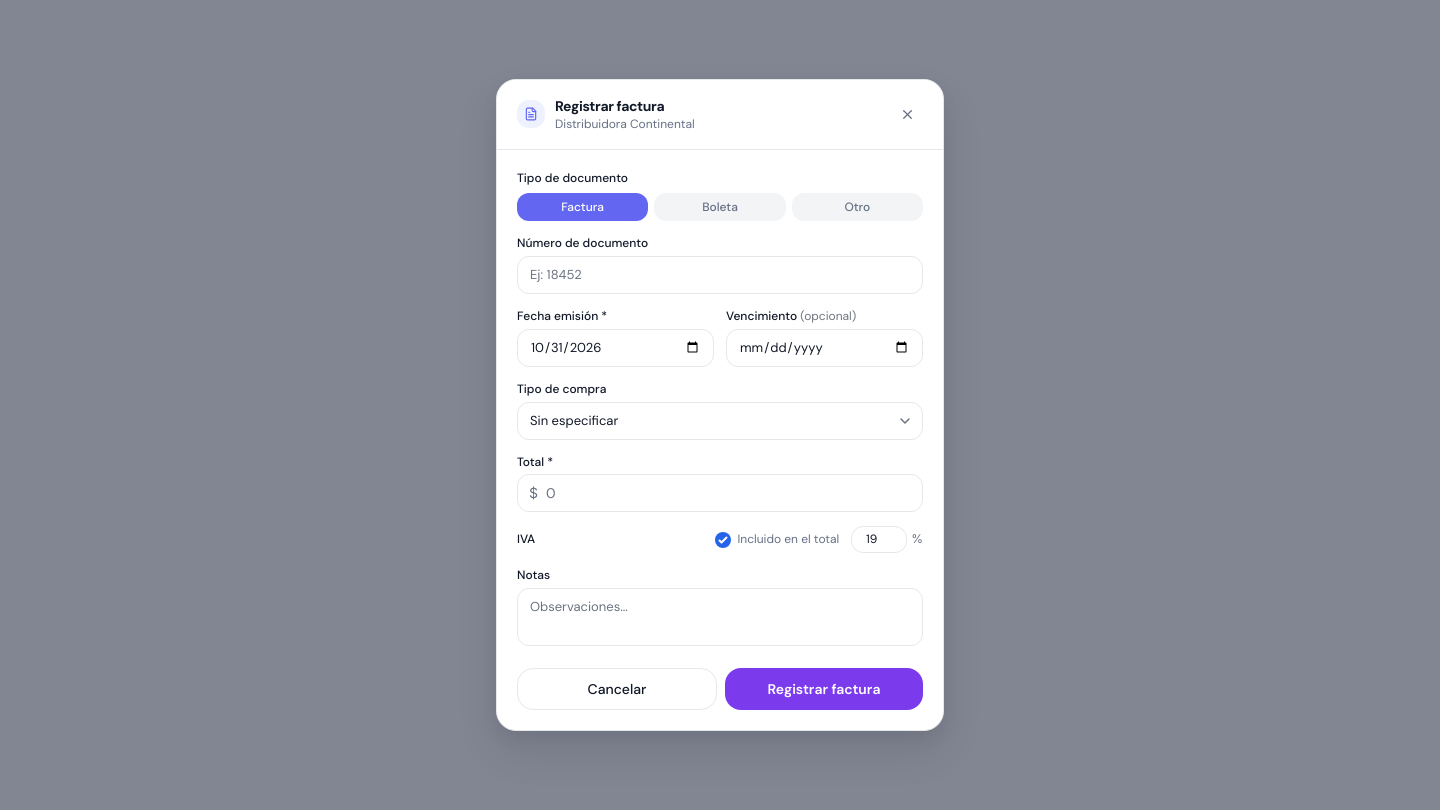
it: Escenario 1 — crear factura › rechaza el envío sin un total válido
Click the button "Registrar factura" at (824, 689), box [725, 668, 923, 710]
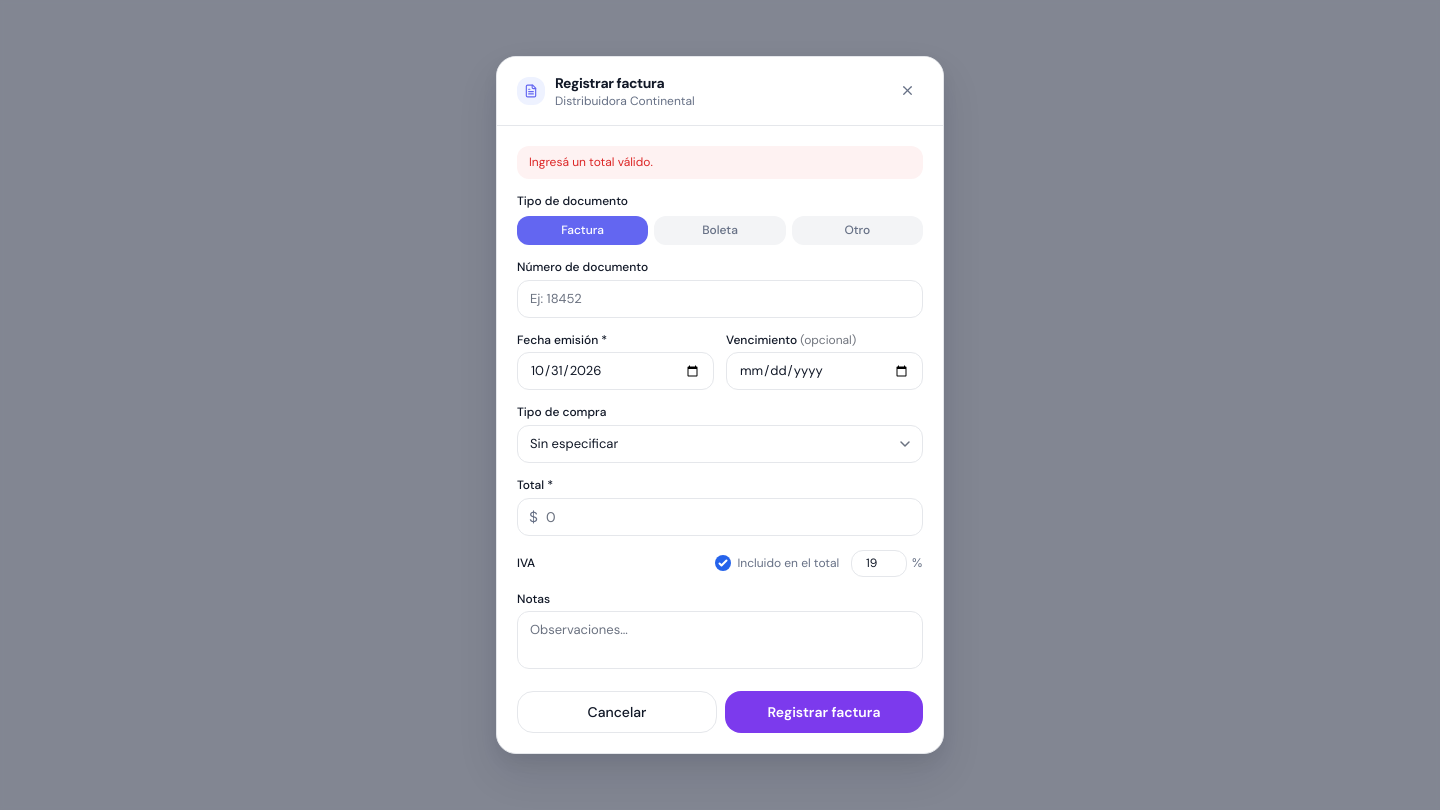
Now the text "Ingresá un total válido." is shown, box [517, 146, 923, 179]
